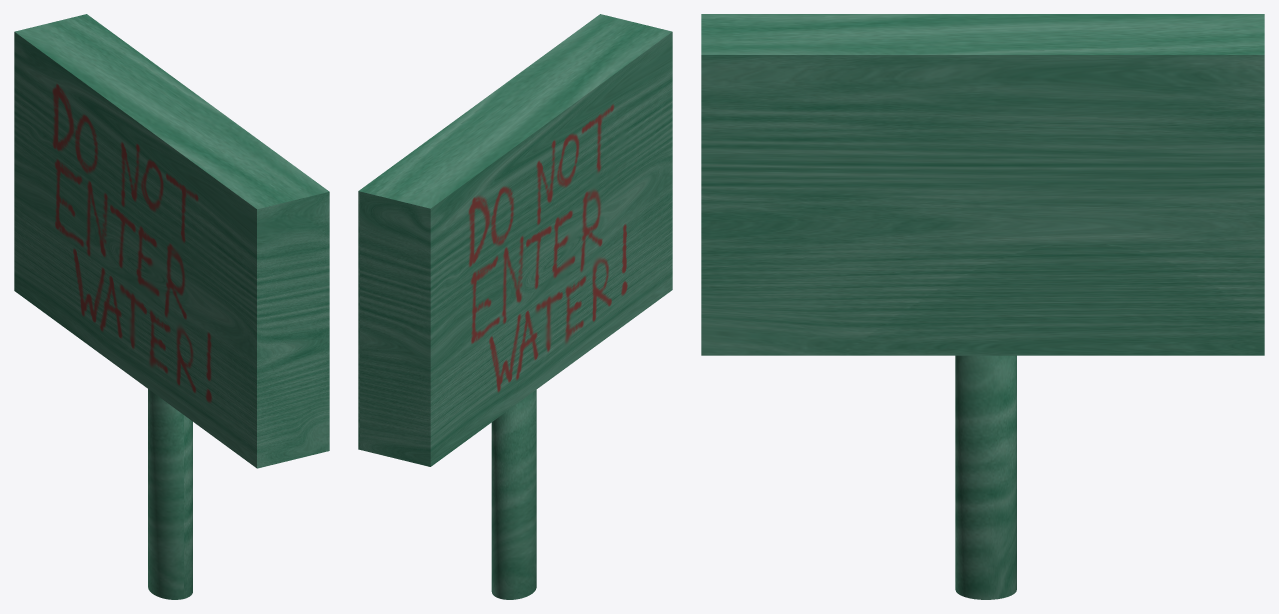
Rendered from SignUpdated.fbx.
The picture shows the model from 3 angles, left to right: view 1: azimuth 30°, elevation 25°; view 2: azimuth 150°, elevation 25°; view 3: azimuth 270°, elevation 25°; orthographic projection. The views are drawn at different scales.
Visible parts, largest first — view 1: Cube, Cylinder; view 2: Cube, Cylinder; view 3: Cube, Cylinder.
Boxes of the visible parts, x1,y1,x2,y2 form: Cube: (14,14,329,468); Cylinder: (148,389,192,599); Cube: (358,14,672,466); Cylinder: (491,390,536,599); Cube: (701,14,1264,355); Cylinder: (955,355,1016,599).
Size of the model in its own units: 106 by 616 by 670.
Materials: 2 (2 with a texture image).
